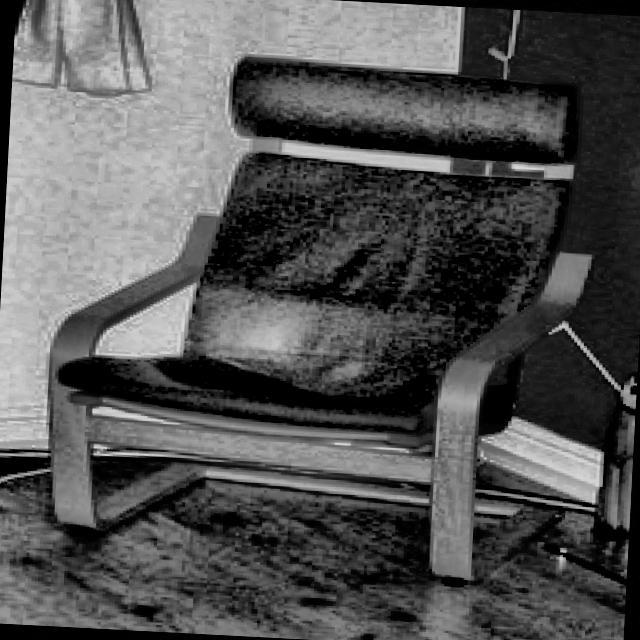chair: (37, 45, 606, 591)
